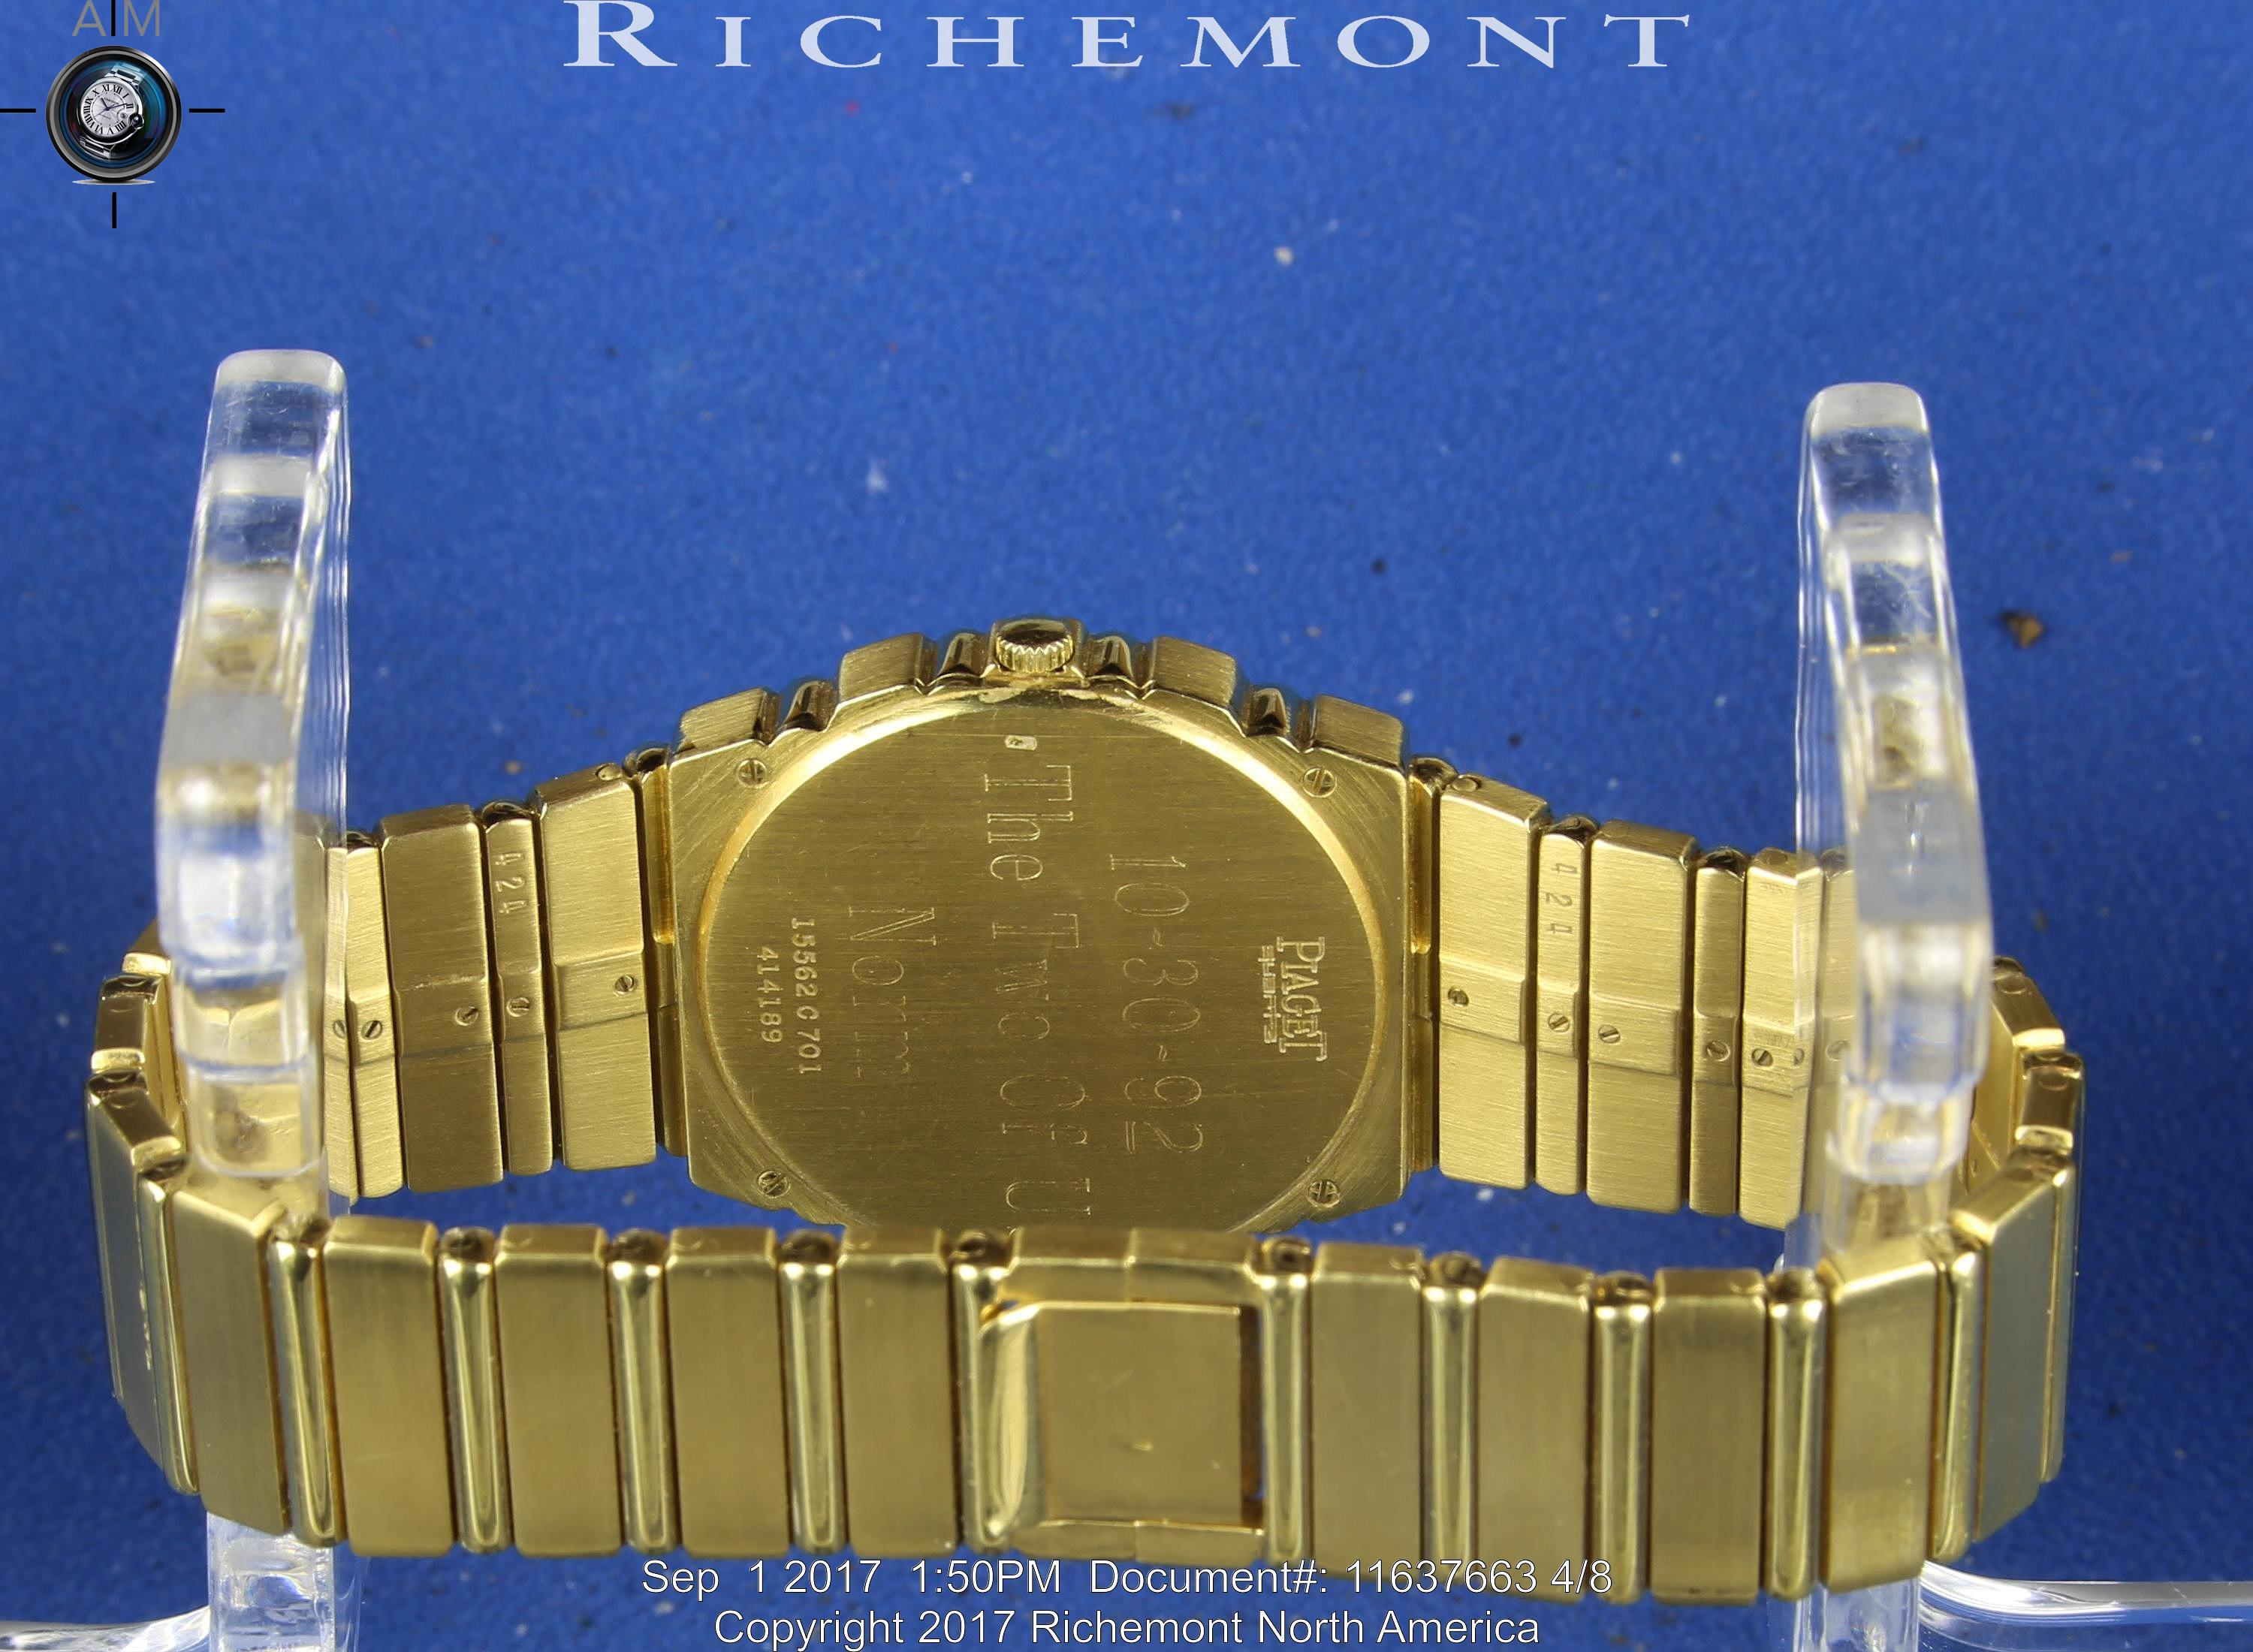Watch BackCase: (672, 610, 1420, 1217)
